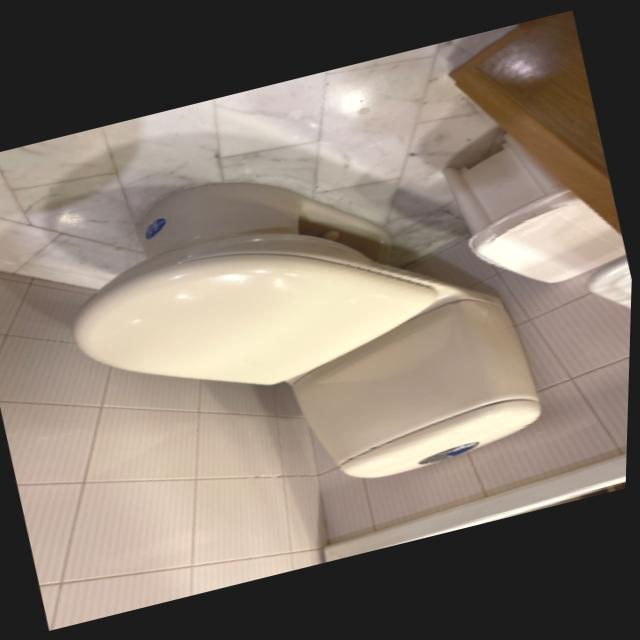toilet: (41, 116, 559, 545)
